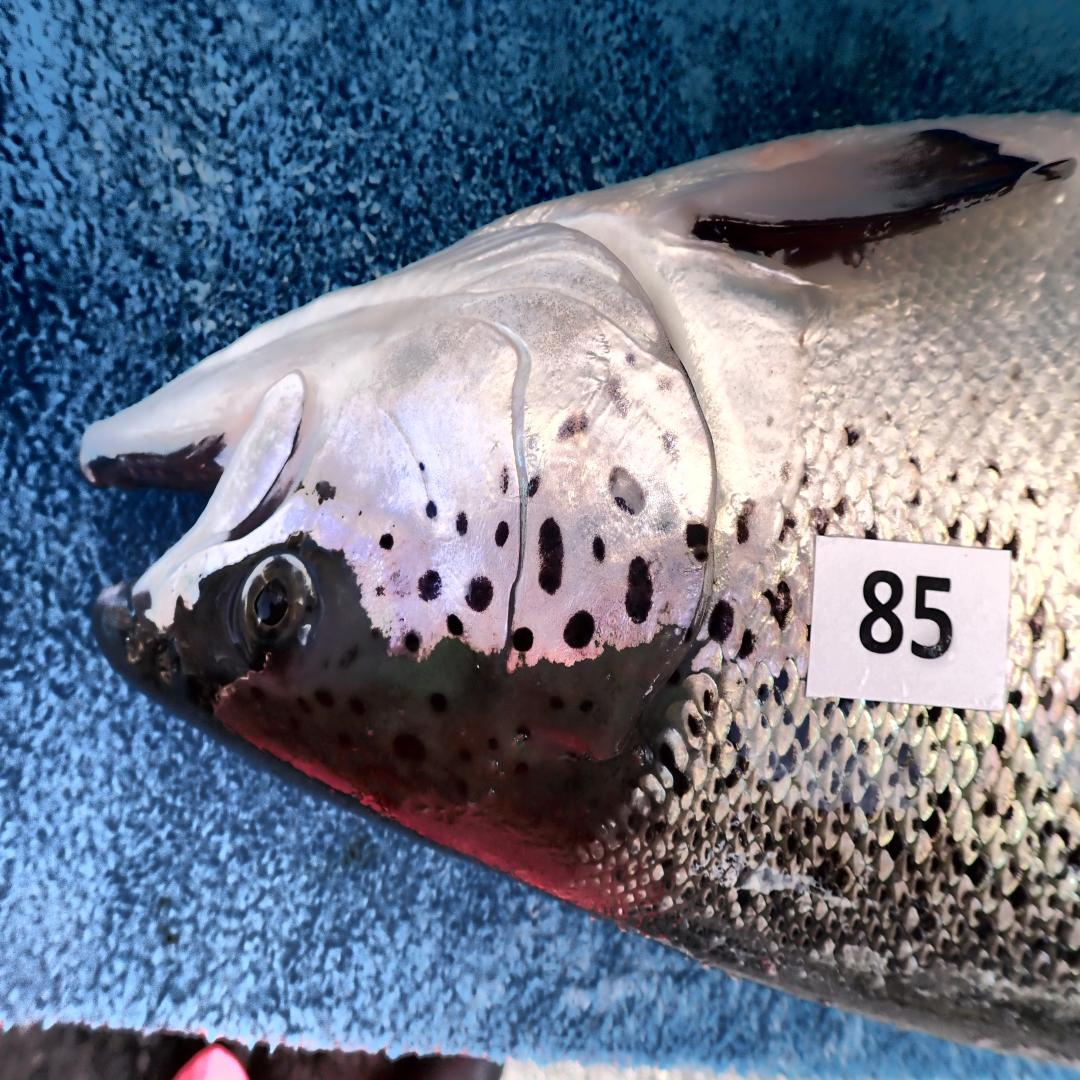spot: (538, 518, 564, 596), (624, 557, 652, 624), (610, 467, 645, 515), (563, 610, 595, 650), (466, 576, 494, 613), (686, 522, 710, 562), (559, 413, 589, 442), (418, 571, 441, 602), (513, 626, 534, 654), (314, 481, 337, 504), (447, 613, 464, 636), (593, 534, 605, 562), (405, 630, 420, 652), (496, 520, 508, 546), (527, 475, 540, 498), (380, 532, 394, 551), (456, 512, 468, 534), (500, 467, 509, 495), (662, 435, 672, 454), (426, 501, 437, 518), (625, 352, 636, 366), (376, 586, 384, 597), (419, 461, 425, 471)
